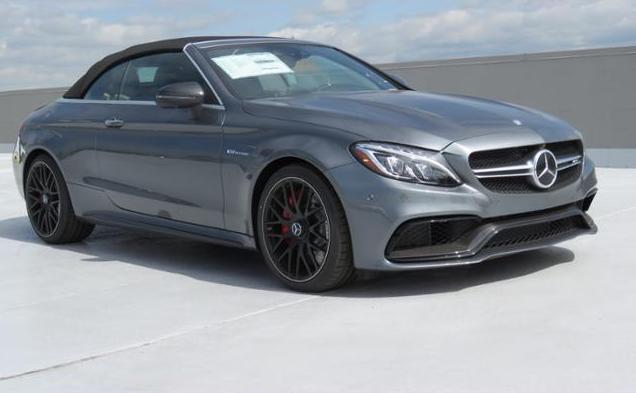C63AMG: (12, 32, 602, 291)
